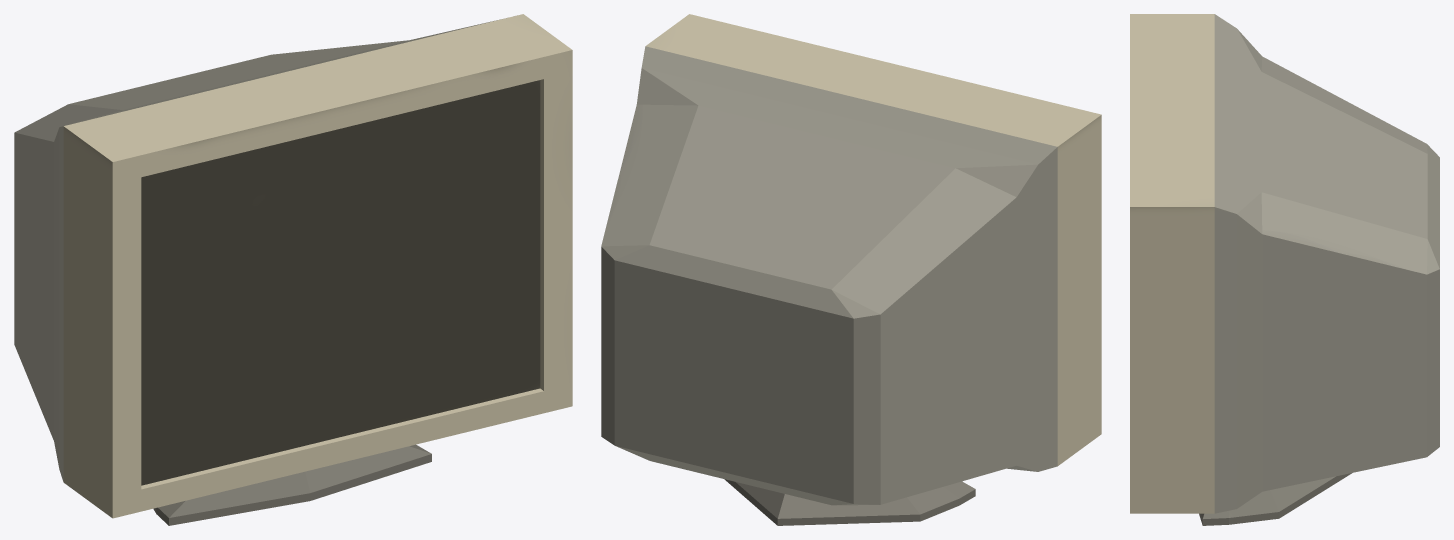
File: Computer1 (Monitor).fbx
3 views of the same model, side by side, from view 1: azimuth 30°, elevation 25°; view 2: azimuth 150°, elevation 25°; view 3: azimuth 270°, elevation 25° (orthographic). The views are drawn at different scales.
Visible parts, largest first — view 1: Cube; view 2: Cube; view 3: Cube.
Part boxes in pixels (x1,y1,x2,y2): Cube: (14, 14, 572, 525); Cube: (601, 14, 1101, 525); Cube: (1130, 14, 1439, 525).
Size of the model in its own units: 540 by 470 by 366.
1 material, 1 textured.
